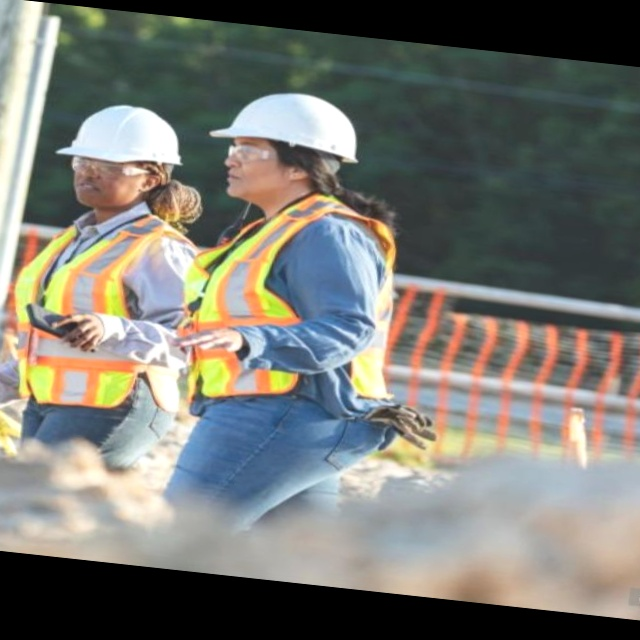Con_Casco: (205, 82, 367, 209), (51, 96, 187, 218)
Con_Chaleco: (176, 189, 417, 412), (1, 201, 204, 420)
